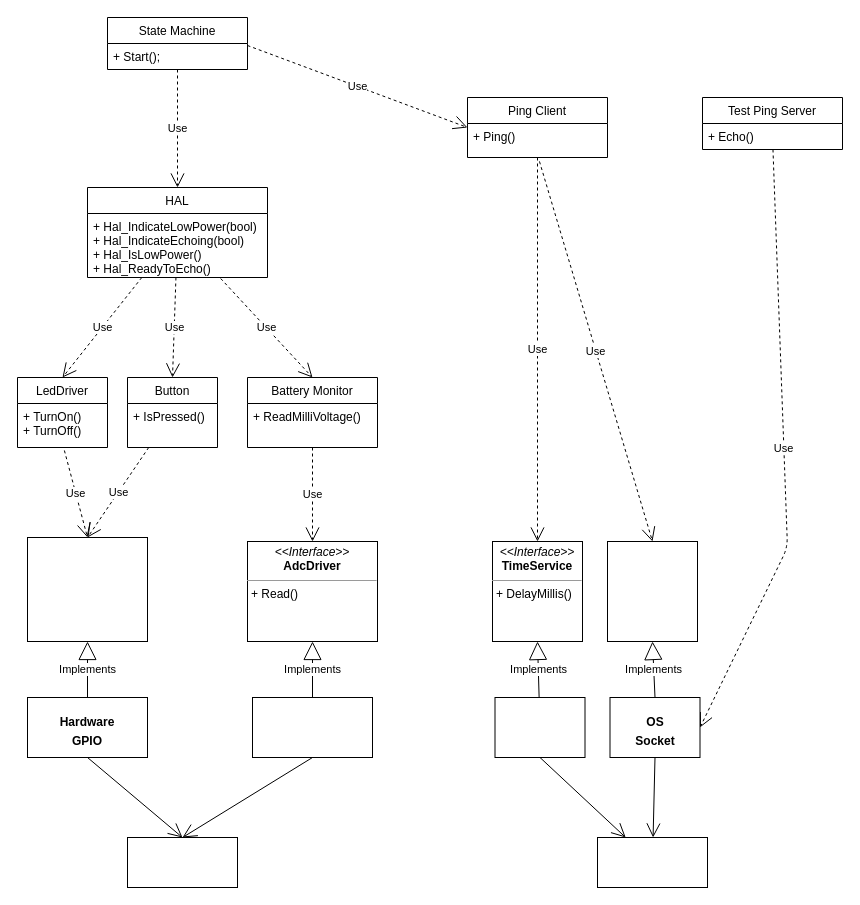
This 860x905 diagram has some shape labels left out. Each missing label, with the centre of its shape:
<<Interface>> GPIO + SetMode() + SetupPwm() + Output() + Input(): pixel 87 589
<<Interface>> Socket + Create() + Write() + Read() + Destroy(): pixel 652 591
Hardware: pixel 182 862
Hardware AdcDriver: pixel 312 727
OS: pixel 652 862
OS TimeService: pixel 539 727
